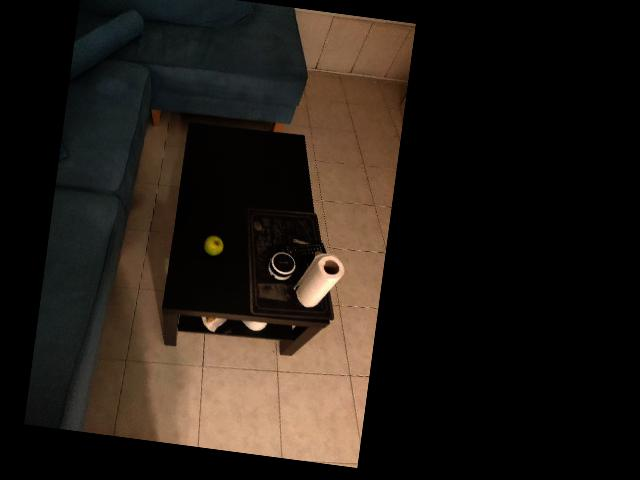apple: (176, 219, 230, 295)
